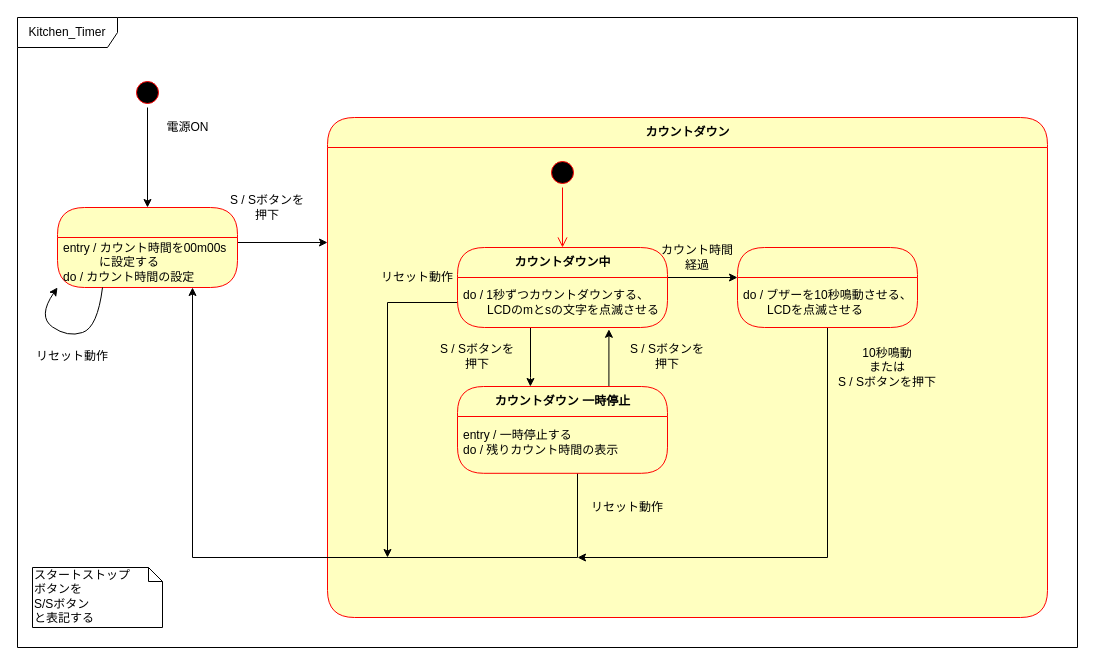
Image size: 1095x665. Some labels were removed from this diagram. The box of each missing label's shape, as (x1, y1, x2, y2) in pixels:
カウントダウン 終了: (736, 246, 918, 328)
カウント時間設定: (56, 206, 238, 288)
